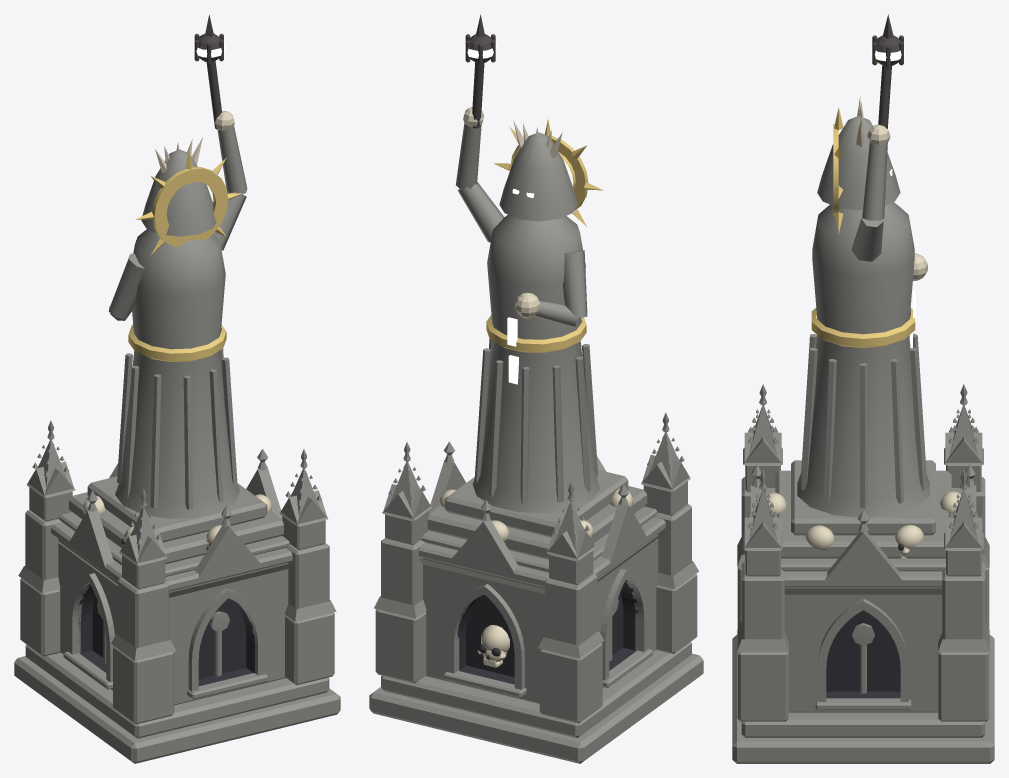
File: tower_idol_3.glb
3 renders of one model, left to right at view 1: azimuth 30°, elevation 25°; view 2: azimuth 150°, elevation 25°; view 3: azimuth 270°, elevation 25°, orthographic. The views are drawn at different scales.
Parts seen in each view (by area): view 1: tower; view 2: tower; view 3: tower.
Part boxes in pixels (x1,y1,x2,y2): tower: (14, 15, 340, 763); tower: (369, 14, 703, 763); tower: (732, 14, 994, 763).
Bounding box in the file's own units: 1.7 × 5.14 × 1.7.
